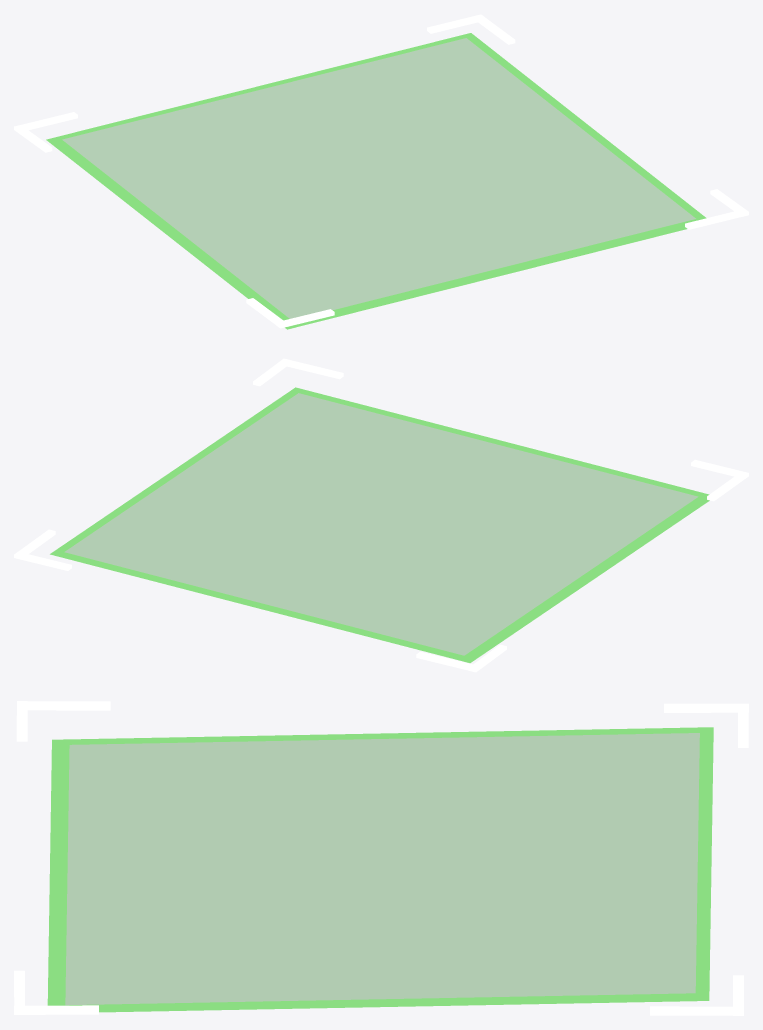
Rendered from newFrame-1x1.glb.
The picture shows the model from 3 angles, top to bottom: view 1: azimuth 30°, elevation 25°; view 2: azimuth 150°, elevation 25°; view 3: azimuth 270°, elevation 25°; orthographic projection. The views are drawn at different scales.
Visible parts, largest first — view 1: Plane, Plane.001, Plane.002; view 2: Plane, Plane.001, Plane.002; view 3: Plane, Plane.001, Plane.002, Cube.005, Cube.003, Cube.007, Cube.001.
Boxes of the visible parts, x1=… form: Plane: x1=62, y1=38, x2=695, y2=318; Plane.001: x1=46, y1=33, x2=705, y2=329; Plane.002: x1=47, y1=33, x2=705, y2=329; Plane: x1=64, y1=393, x2=698, y2=655; Plane.001: x1=50, y1=387, x2=709, y2=662; Plane.002: x1=50, y1=388, x2=708, y2=662; Plane: x1=65, y1=733, x2=699, y2=1005; Plane.001: x1=48, y1=727, x2=713, y2=1011; Plane.002: x1=48, y1=727, x2=713, y2=1011; Cube.005: x1=26, y1=701, x2=110, y2=710; Cube.003: x1=650, y1=1006, x2=734, y2=1015; Cube.007: x1=14, y1=1005, x2=98, y2=1014; Cube.001: x1=664, y1=703, x2=748, y2=712.
Bounding box in the file's own units: 2.33 × 0.0892 × 2.33.
